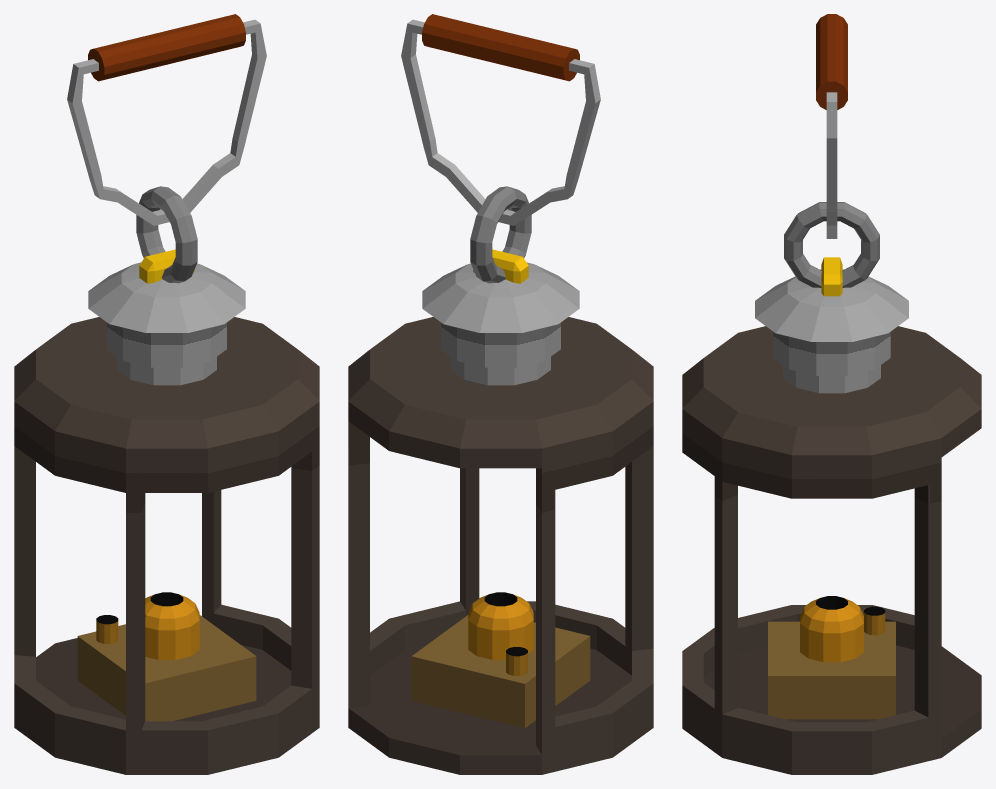
File: Base_Lamp.gltf
3 views of the same model, side by side, from view 1: azimuth 30°, elevation 25°; view 2: azimuth 150°, elevation 25°; view 3: azimuth 270°, elevation 25° (orthographic). The views are drawn at different scales.
Parts seen in each view (by area): view 1: bottom, Top, cylinder (×5), base, sphere (×2), Alça, torus, beveled_cuboid; view 2: bottom, Top, cylinder (×5), base, sphere (×2), Alça, torus, beveled_cuboid; view 3: Top, bottom, cylinder (×5), base, sphere (×2), torus, Alça, beveled_cuboid.
Part boxes in pixels (box(x1,y1,x2,y2)): bottom: box(14, 446, 319, 774); Top: box(14, 317, 319, 492); cylinder (×5): box(88, 14, 245, 659); base: box(77, 615, 256, 721); sphere (×2): box(88, 262, 245, 630); Alça: box(67, 19, 266, 225); torus: box(136, 186, 197, 283); beveled_cuboid: box(139, 249, 194, 283); bottom: box(348, 443, 653, 774); Top: box(348, 317, 653, 492); cylinder (×5): box(422, 14, 579, 675); base: box(411, 615, 590, 728); sphere (×2): box(422, 262, 579, 630); Alça: box(401, 19, 600, 225); torus: box(470, 186, 531, 283); beveled_cuboid: box(473, 249, 528, 283); Top: box(682, 326, 981, 498); bottom: box(682, 476, 981, 774); cylinder (×5): box(773, 14, 890, 662); base: box(768, 621, 895, 719); sphere (×2): box(755, 269, 908, 633); torus: box(784, 202, 879, 287); Alça: box(826, 92, 837, 238); beveled_cuboid: box(821, 257, 842, 296).
Bounding box in the file's own units: 0.875 × 2.14 × 0.875.
Materials: 1 (1 with a texture image).
